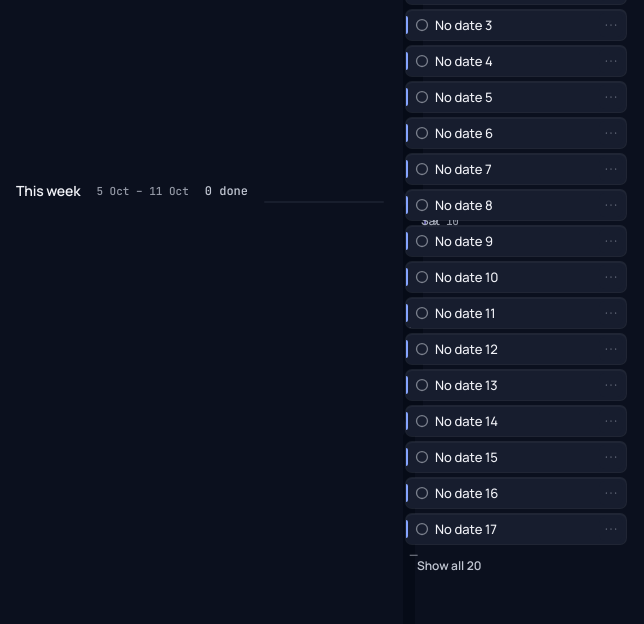
Test case: MyWeekView — Pull to today › lets long lists expand
(page scrolled)
Expected: the text "No date 19" is not shown
What coordinates should you click on to do the following:
click the button with aria-label "Show all 20 unscheduled tasks"
I would click on:
 (449, 566)
Its box is [406, 552, 492, 580].
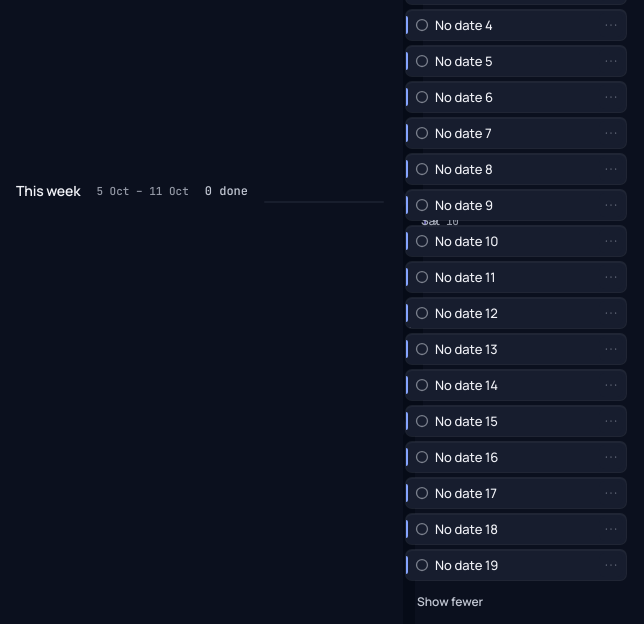
Expected: the text "No date 19" is shown, [435, 556, 498, 574]
